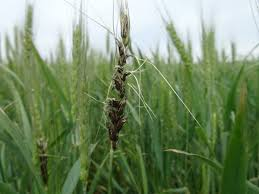Wheat Loose Smut: (104, 41, 133, 143)
